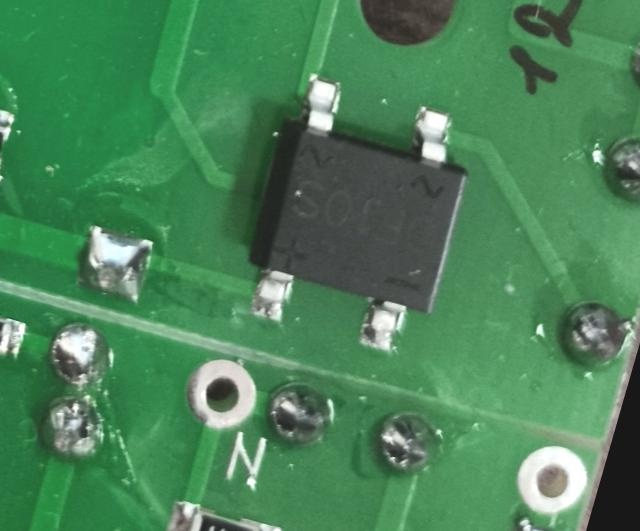chip-resistor: (159, 494, 286, 531)
ic: (226, 58, 494, 366)
